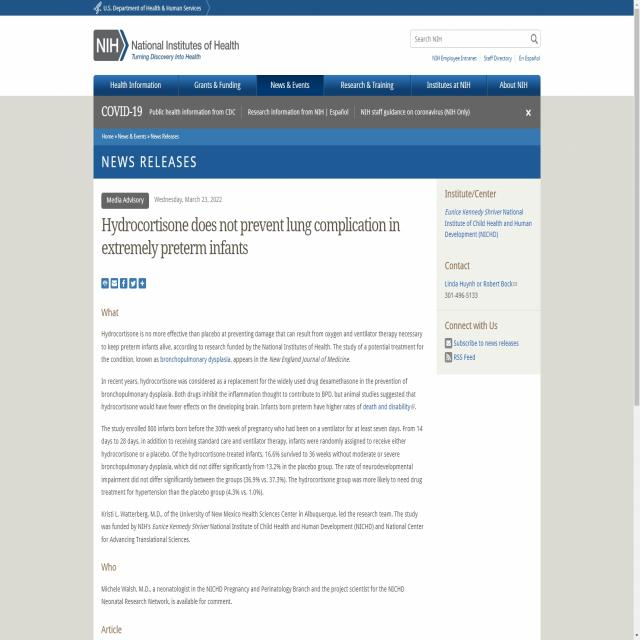menu-bar: (94, 73, 540, 97)
search: (409, 27, 541, 49)
side-panel: (435, 178, 539, 373)
